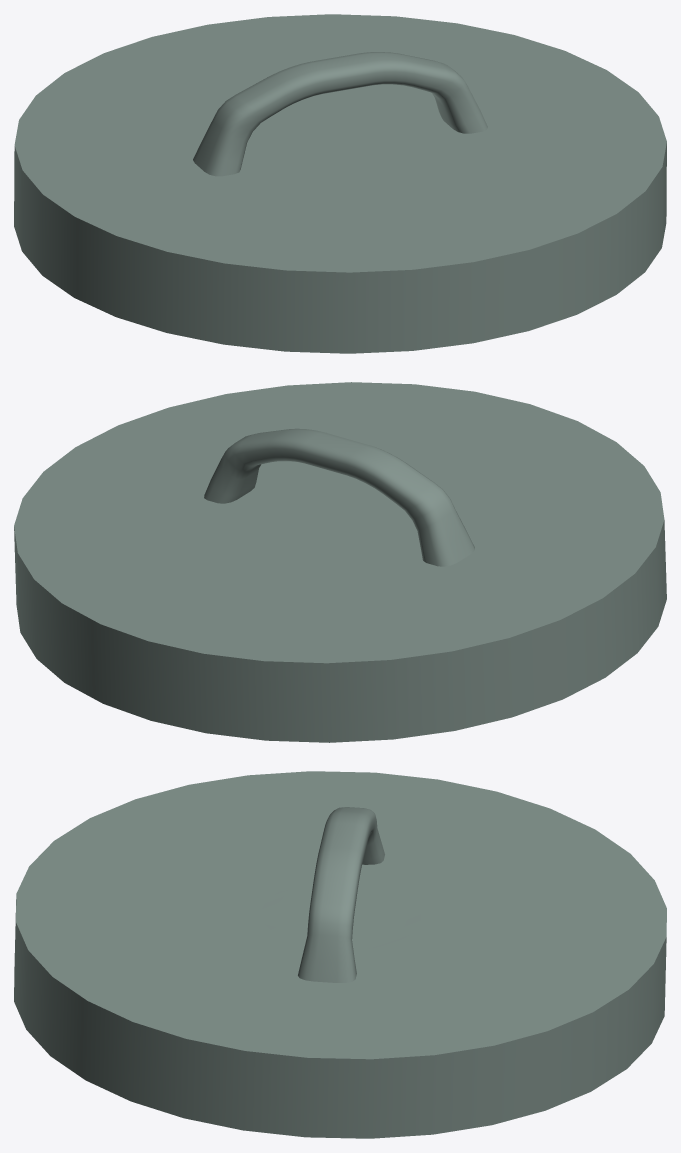
Rendered from bin_lid.glb.
3 views of the same model, one above another, from view 1: azimuth 30°, elevation 25°; view 2: azimuth 150°, elevation 25°; view 3: azimuth 270°, elevation 25° (orthographic).
Parts seen in each view (by area): view 1: kapak; view 2: kapak; view 3: kapak.
Boxes of the visible parts, x1=… form: kapak: x1=14, y1=14, x2=666, y2=353; kapak: x1=14, y1=382, x2=666, y2=742; kapak: x1=14, y1=771, x2=666, y2=1138.
Bounding box in the file's own units: 1.33 × 0.3827 × 1.33.
Materials: 1 (1 with a texture image).
